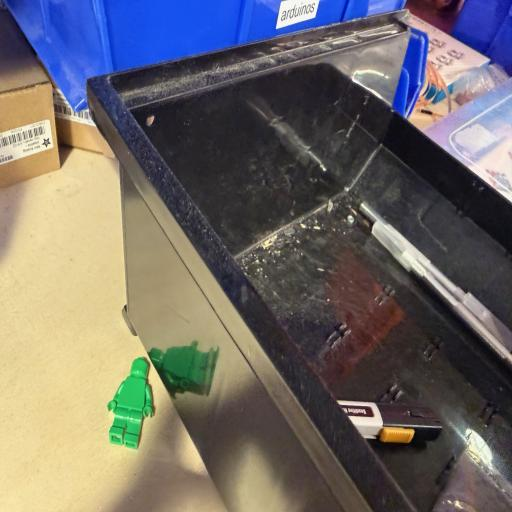Lego-Dude: (107, 357, 153, 449)
